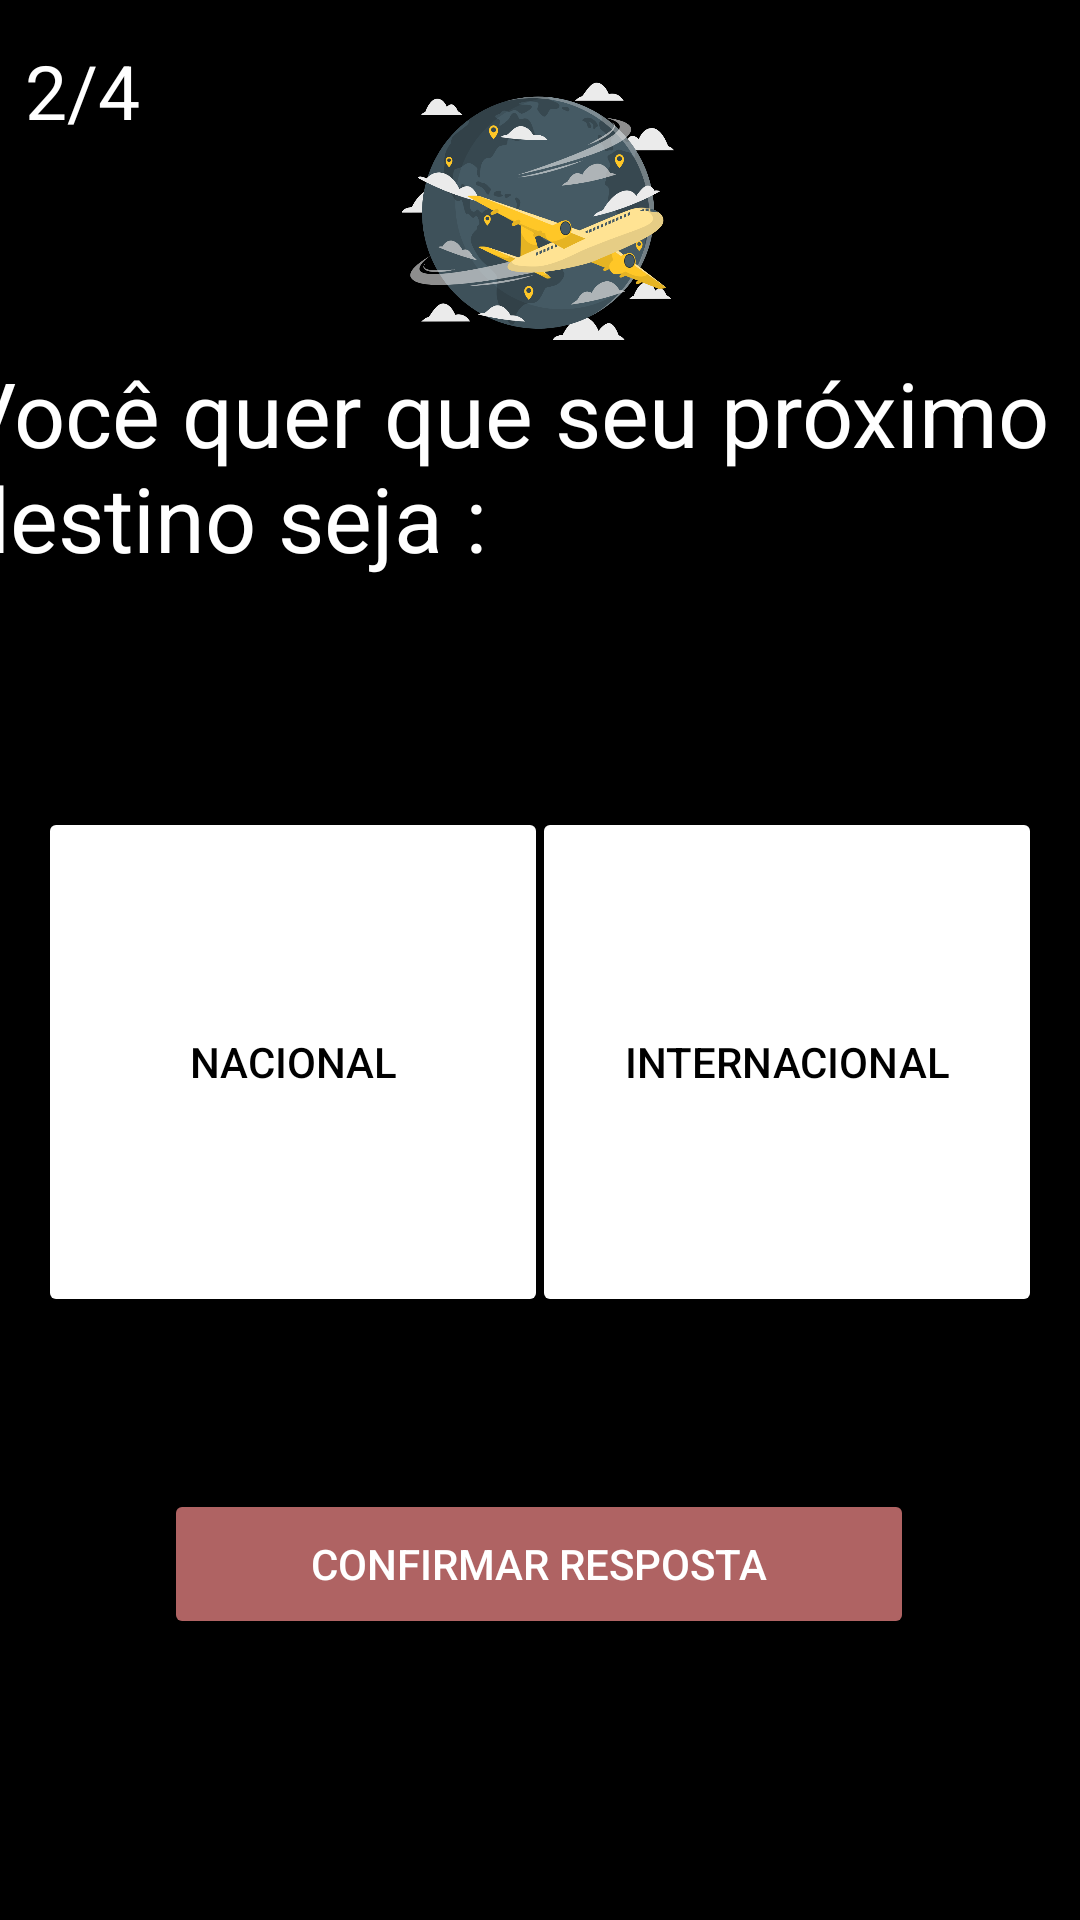

Screen size 1080px x 1920px. Icon name, then its box in pixels as (x1, y1, x2, y2):
cuateairplane: (402, 82, 674, 340)
